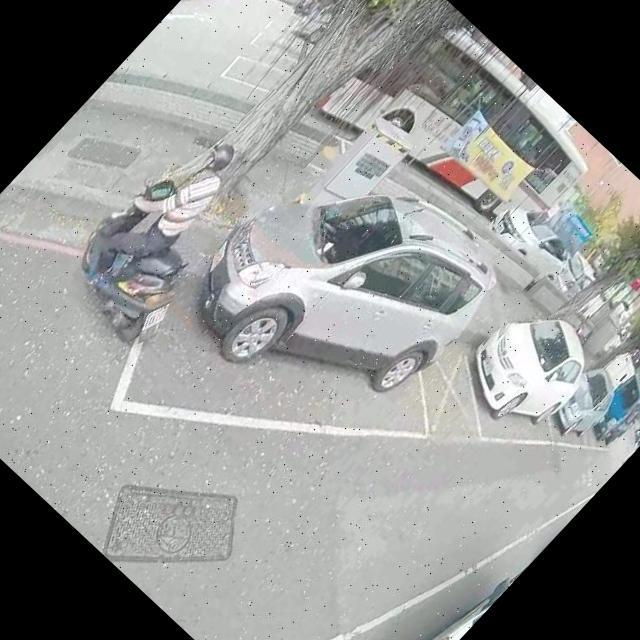person: (70, 120, 251, 308), (296, 0, 335, 16)
